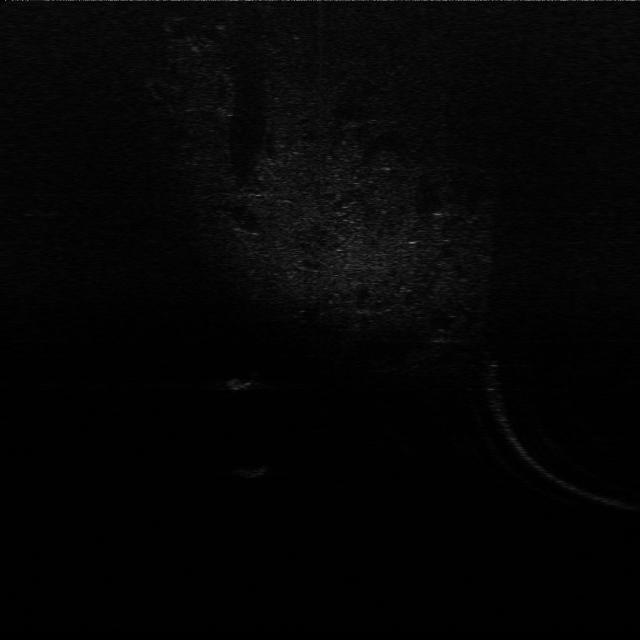cube: (237, 454, 273, 481)
square cage: (217, 368, 267, 396)
